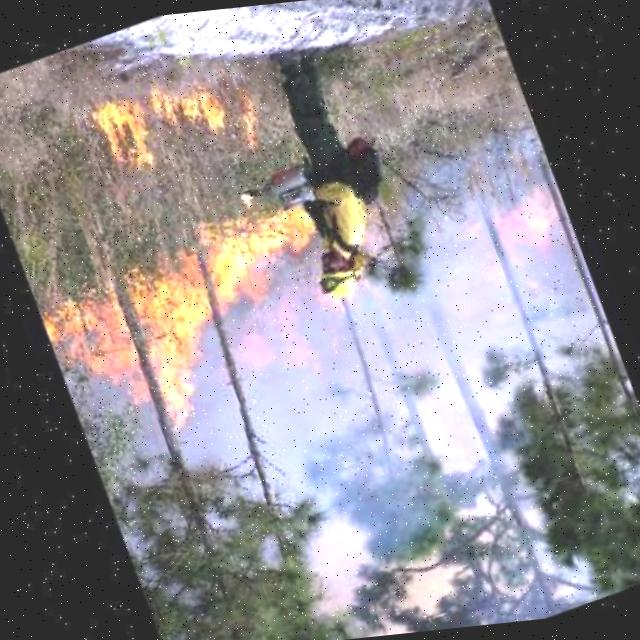fire: (44, 190, 368, 451), (92, 49, 284, 207), (453, 180, 575, 296)
